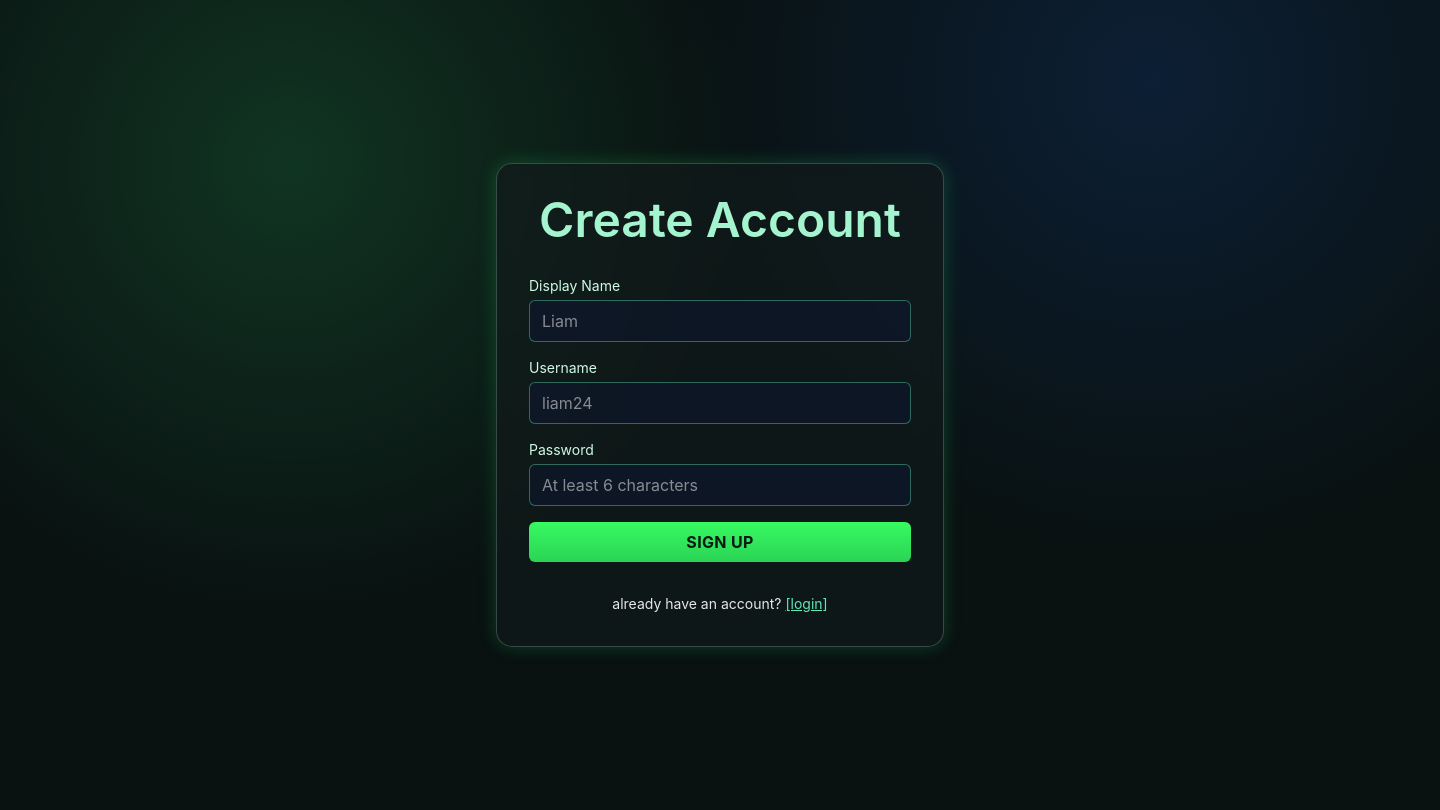
SignupPage - Preservation Properties › should display validation error for short password
# Fill in signup data with short password
Type "Jane Doe" into the field labelled "Display Name" at (720, 321), box [529, 300, 911, 342]
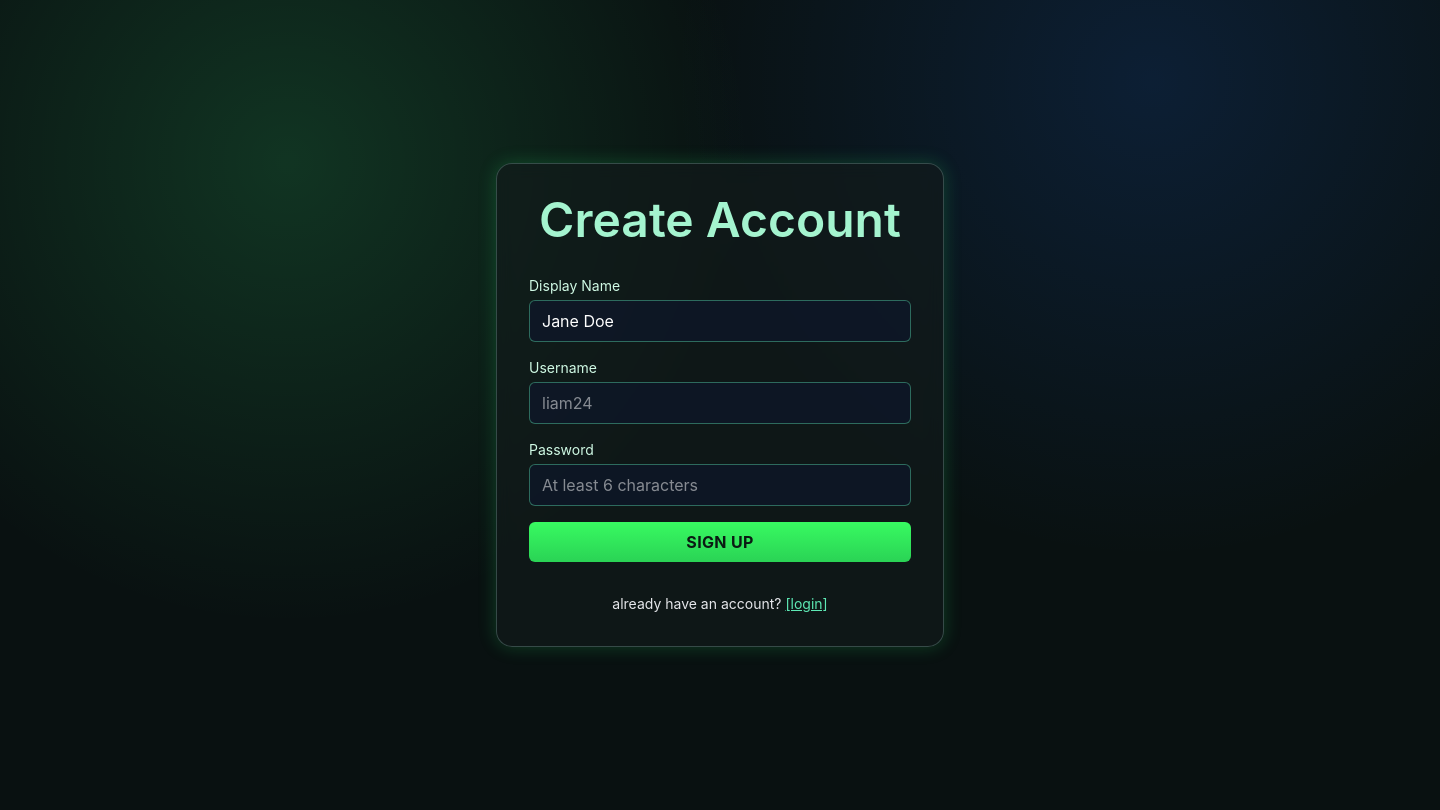
Type "janedoe" into the field labelled "Username" at (720, 403), box [529, 382, 911, 424]
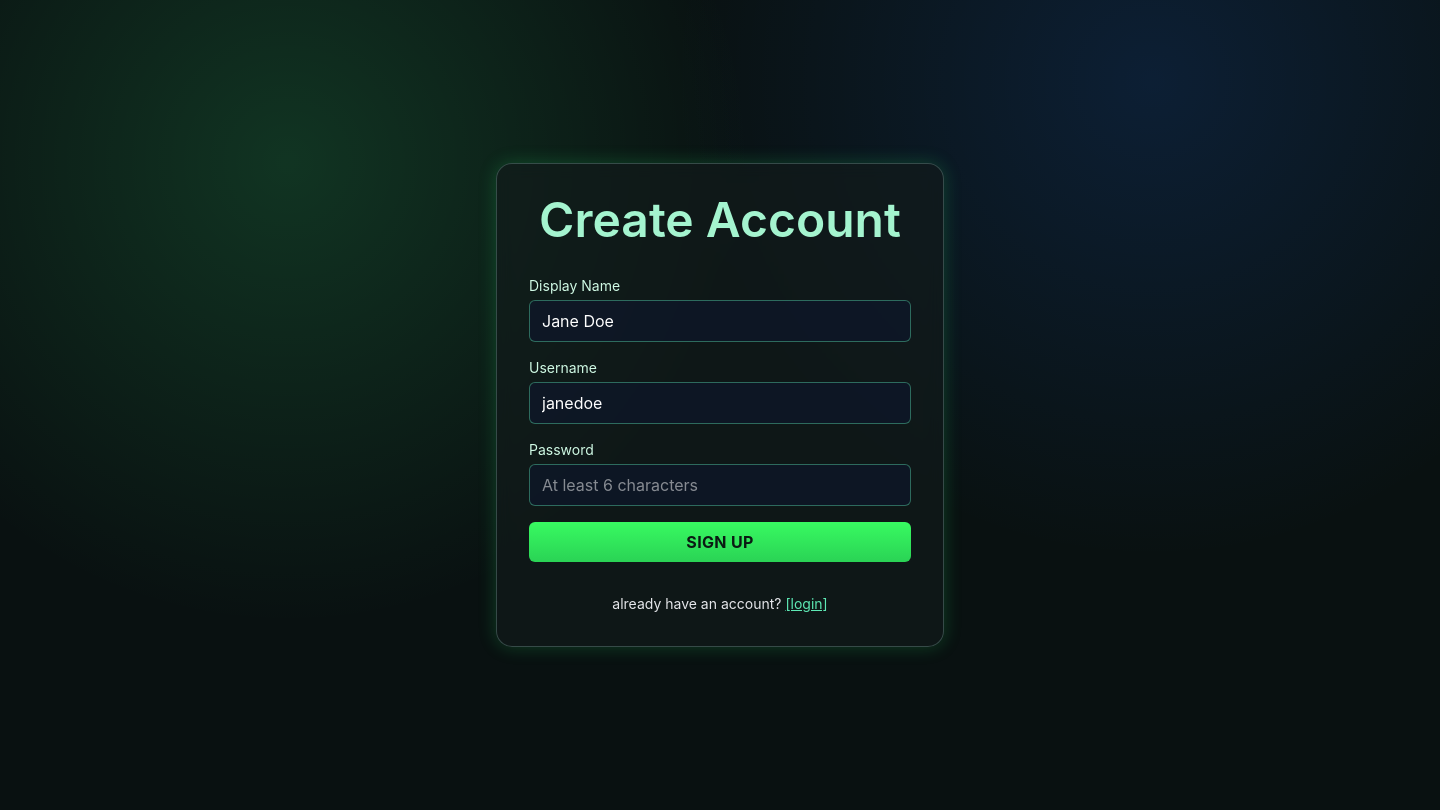
Type "12345" into the password field labelled "Password" at (720, 485), box [529, 464, 911, 506]
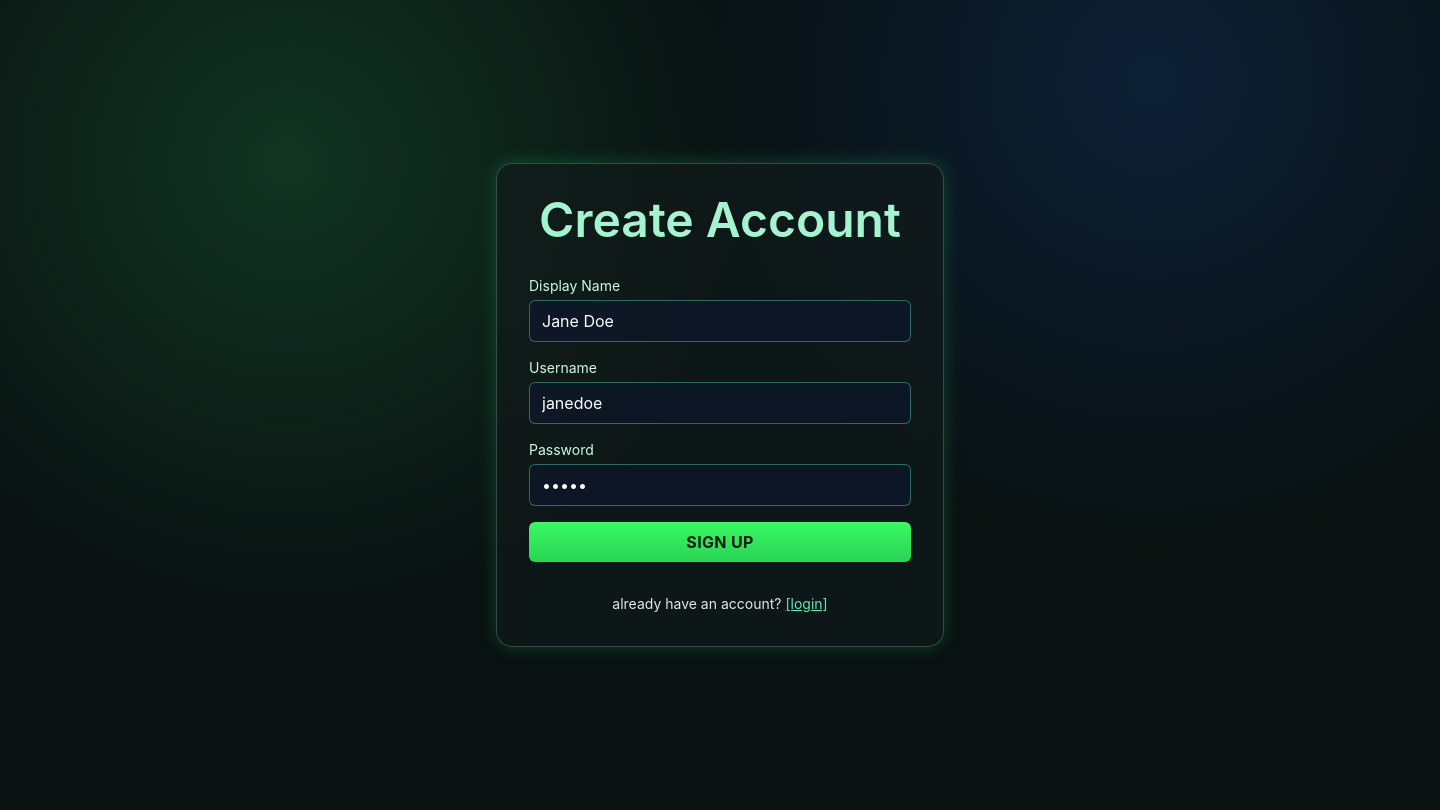
# Submit the form
Click the button "SIGN UP" at (720, 542), box [529, 522, 911, 562]
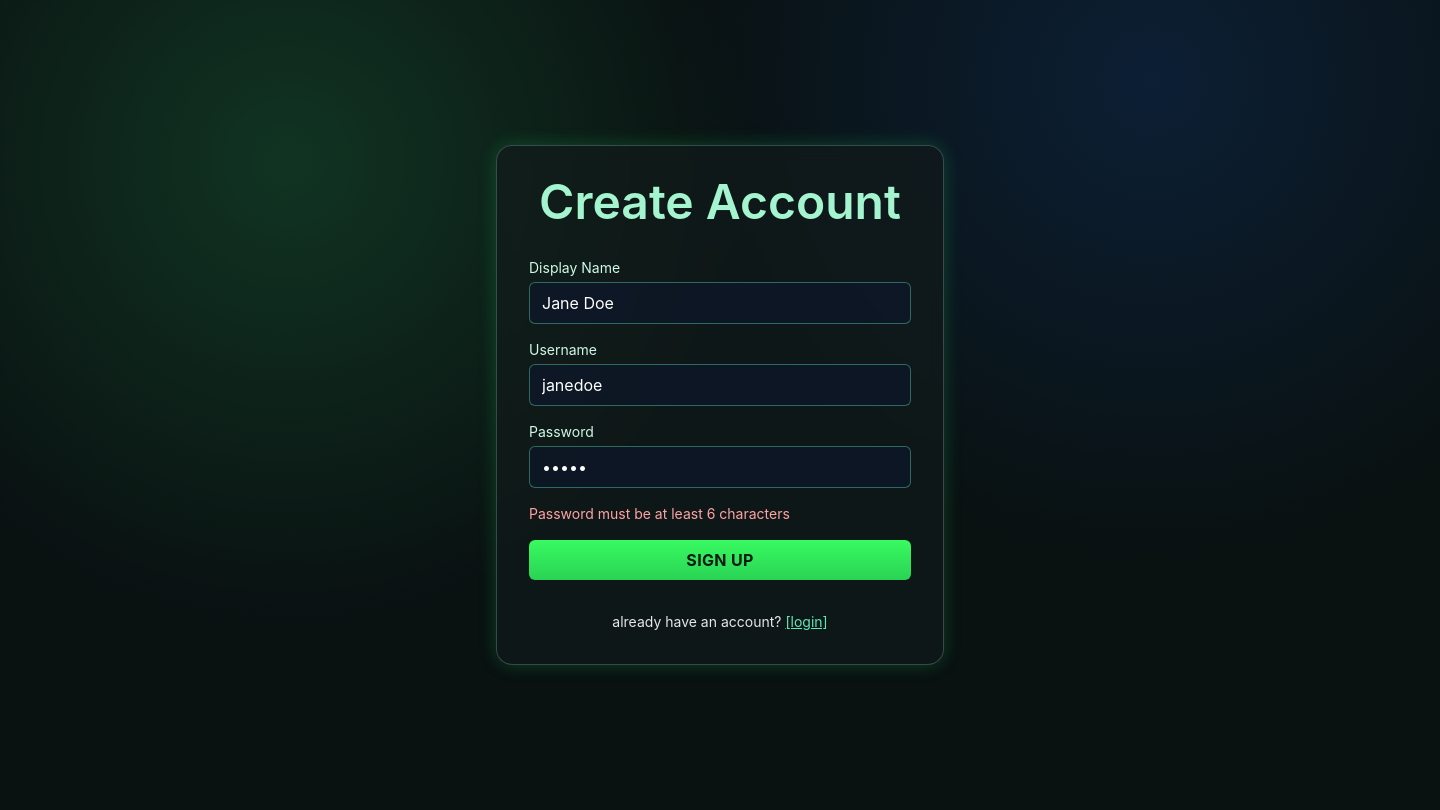
Expected: the text "Password must be at least 6 characters" is shown, [529, 505, 790, 522]
